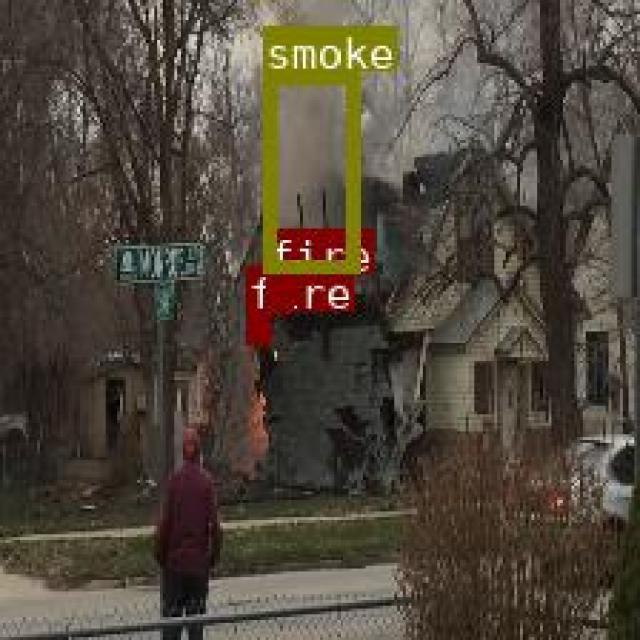fire: (265, 273, 291, 312), (244, 312, 266, 341)
smoke: (262, 69, 357, 271)
